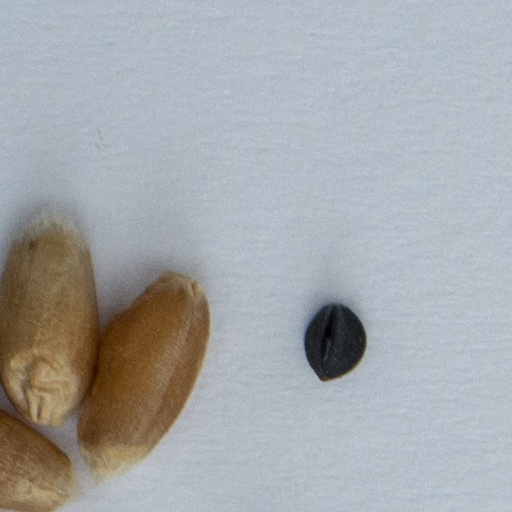Fallopia-Convolvulus-poly: (307, 304, 365, 380)
